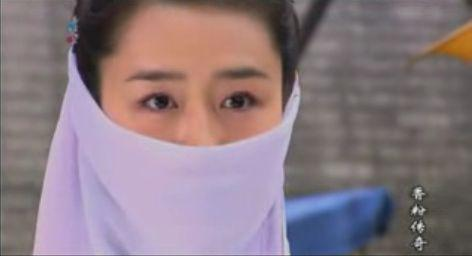WRONG: (109, 63, 279, 220)
